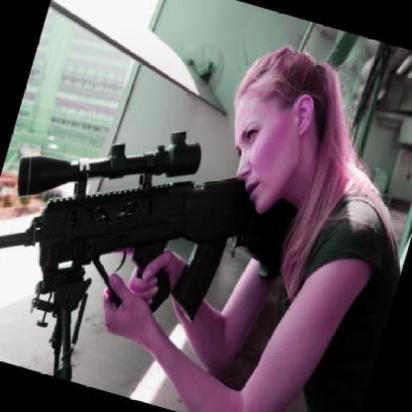Gun: (0, 118, 299, 388)
